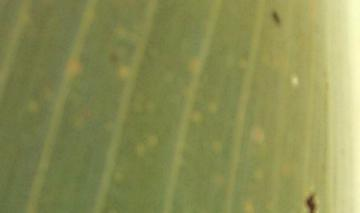tarspot: (306, 191, 318, 213), (271, 10, 284, 26)
